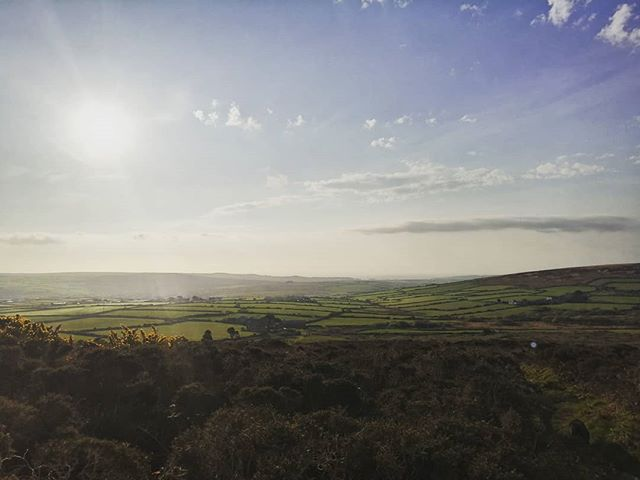sky: (9, 1, 640, 264)
sun: (52, 78, 151, 168)
vegetation: (1, 317, 640, 480)
